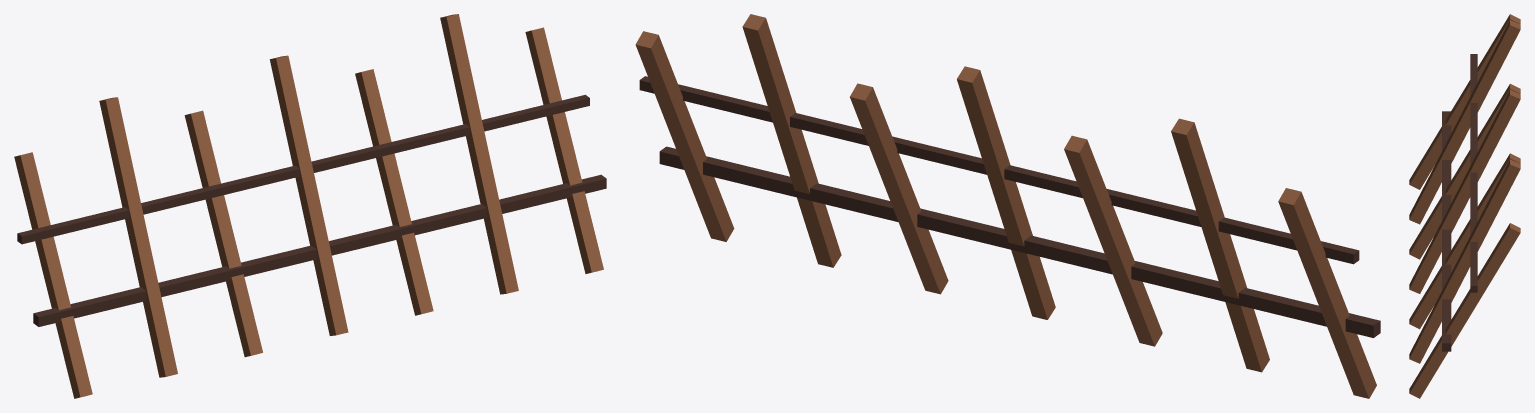
File: spike_wall.glb
The picture shows the model from 3 angles, left to right: view 1: azimuth 30°, elevation 25°; view 2: azimuth 150°, elevation 25°; view 3: azimuth 270°, elevation 25°; orthographic projection. The views are drawn at different scales.
Visible parts, largest first — view 1: stake; view 2: stake; view 3: stake.
Part boxes in pixels (x1,y1,x2,y2): stake: [14, 14, 606, 398]; stake: [635, 14, 1380, 398]; stake: [1409, 14, 1520, 398].
Size of the model in its own units: 6 by 2.41 by 1.22.
